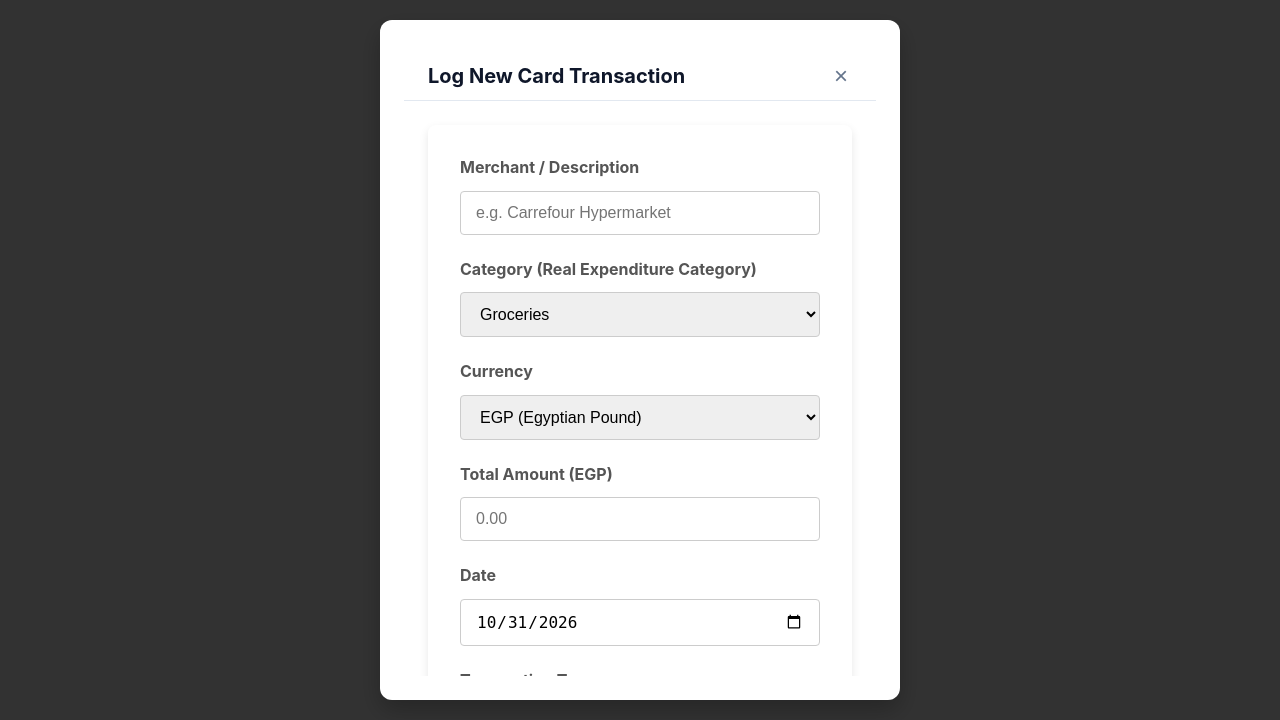
AddTransactionModal.currency.test.js - Multi-Currency & Rate Lock Tests › enables exchangeRate input for admin users
This screenshot has width=1280, height=720.
Select "USD (US Dollar)" in the dropdown labelled "Currency": (640, 417) [460,395,820,440]
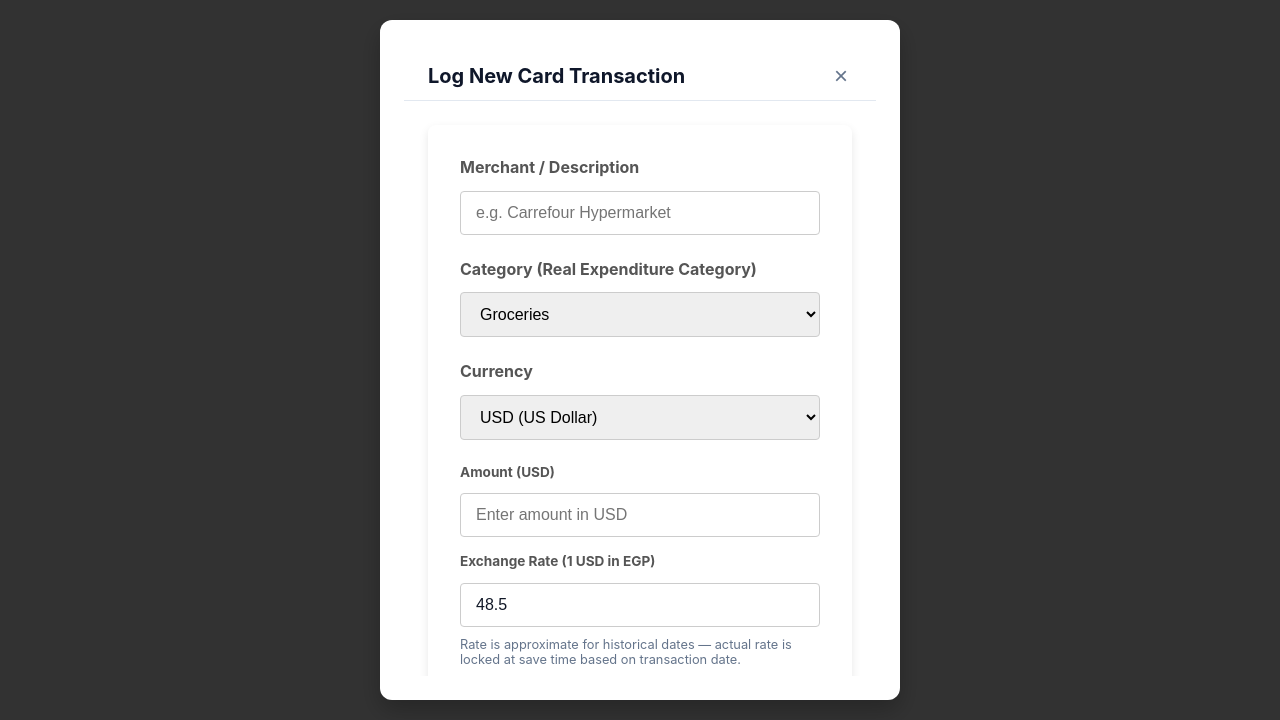
Result: the number field labelled "Exchange Rate (1 USD in EGP)" is enabled at [460,583,820,627]
